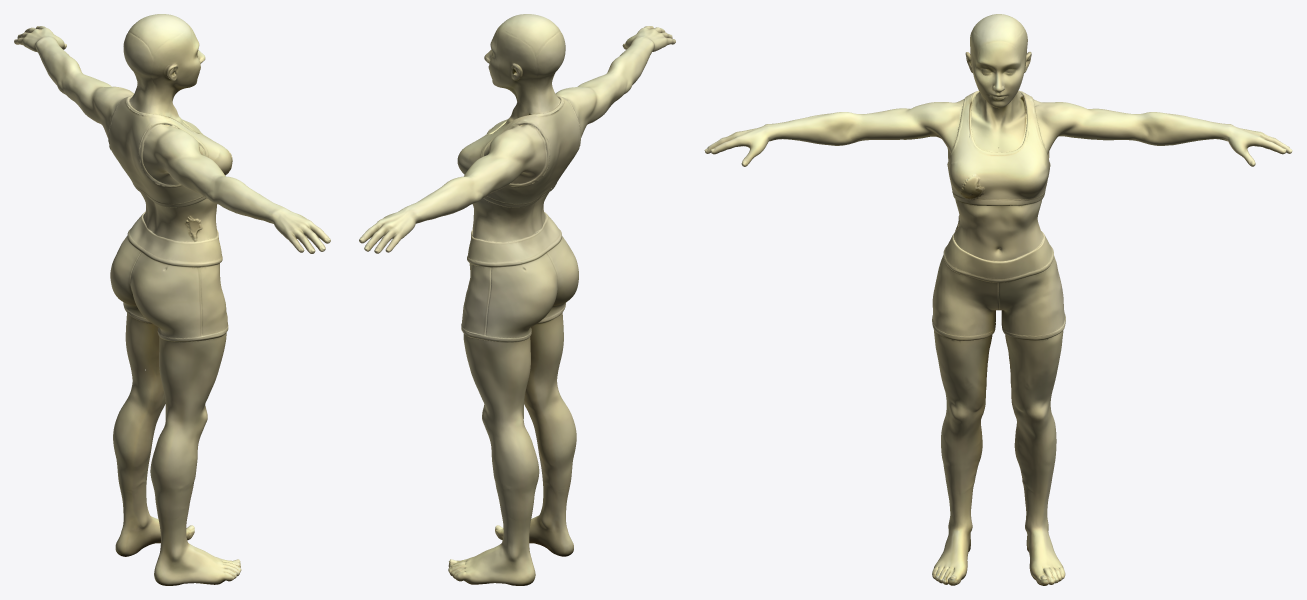
File: fitcheck-sculpture-female-tripo-v1.glb
3 renders of one model, left to right at view 1: azimuth 30°, elevation 25°; view 2: azimuth 150°, elevation 25°; view 3: azimuth 270°, elevation 25°, orthographic.
Parts seen in each view (by area): view 1: tripo_node_39154aab-ff91-430b-94b1-8f0b5e313fb6; view 2: tripo_node_39154aab-ff91-430b-94b1-8f0b5e313fb6; view 3: tripo_node_39154aab-ff91-430b-94b1-8f0b5e313fb6.
Boxes of the visible parts, x1,y1,x2,y2 form: tripo_node_39154aab-ff91-430b-94b1-8f0b5e313fb6: (14,14,330,585); tripo_node_39154aab-ff91-430b-94b1-8f0b5e313fb6: (359,14,675,585); tripo_node_39154aab-ff91-430b-94b1-8f0b5e313fb6: (704,14,1292,585).
Size of the model in its own units: 0.173 by 0.9794 by 0.9582.
Materials: 1 (1 with a texture image).
